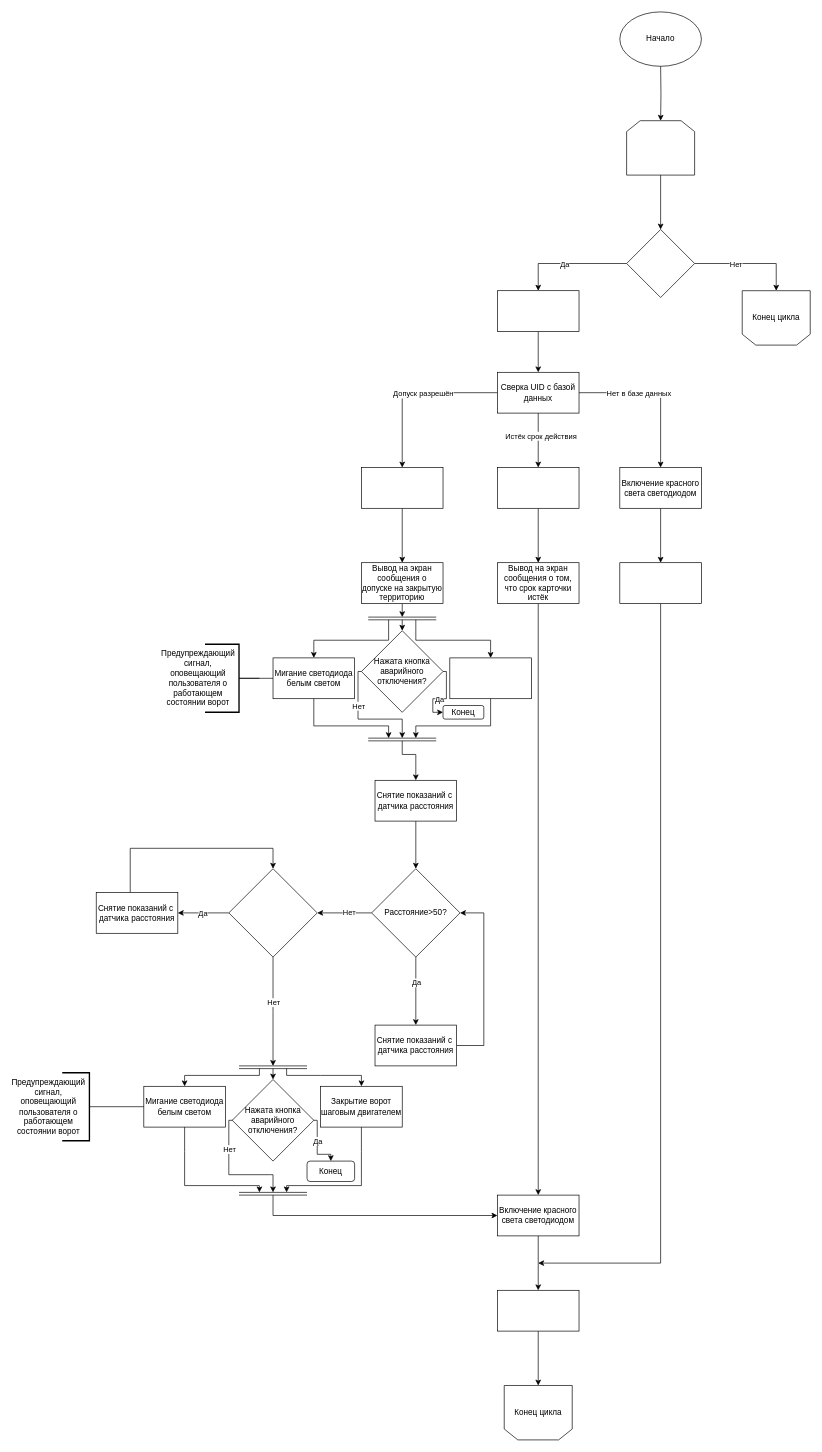
This 822x1452 diagram has some shape labels left out. Here are the shapes that lost their labels. From the top down, the box of each, then its label:
(626, 120, 695, 175): Начало цикла
(626, 229, 695, 298): Карточка приложена?
(497, 290, 579, 332): Считывание UID карточки
(361, 467, 443, 508): Включение зелёного света светодиодом
(497, 467, 579, 508): Включение синего света светодиодом
(619, 562, 701, 604): Вывод на экран сообщения о том, что карточки нет в БД
(449, 657, 531, 699): Открытие ворот шаговым двигателем
(228, 868, 317, 957): Расстояние<50?
(497, 1290, 579, 1331): Вывод на экран сообщения о готовности считывания метки
